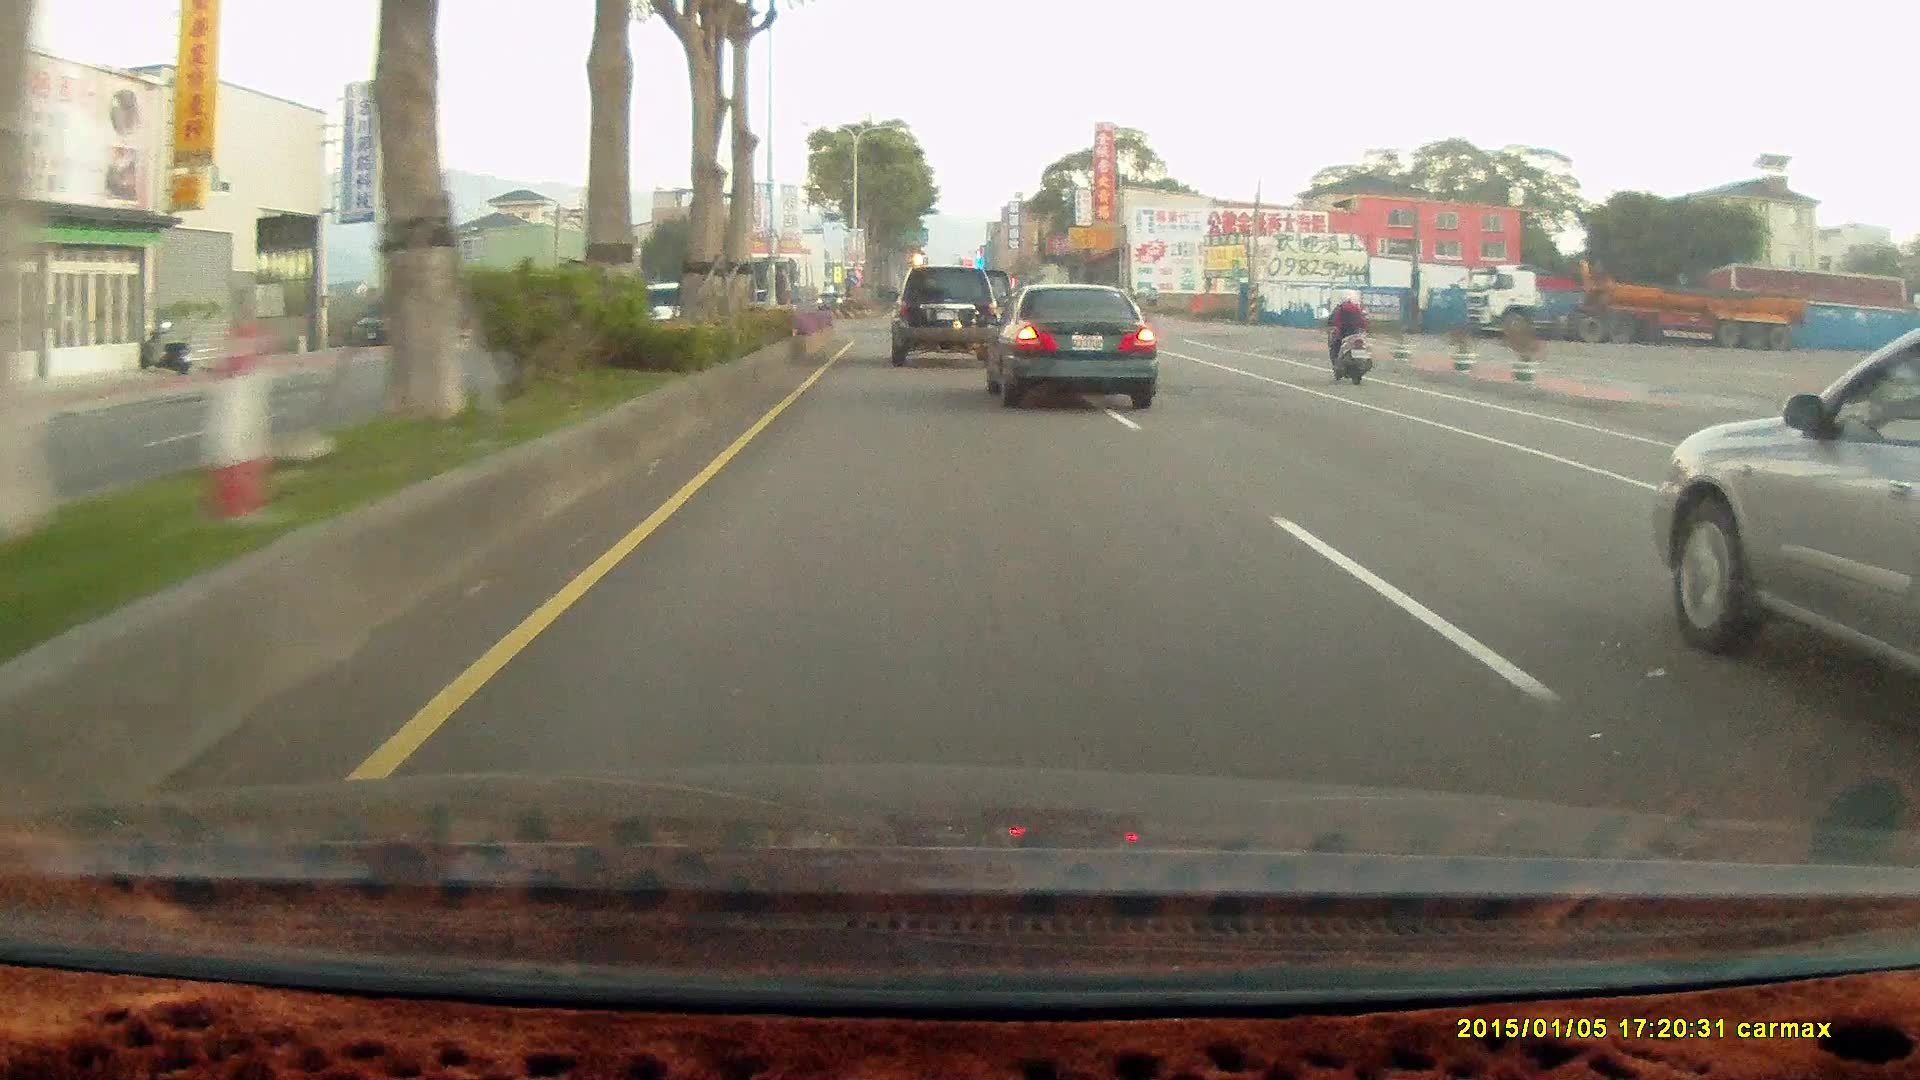rider: (1315, 281, 1383, 390), (1317, 288, 1372, 385)
vehicle: (1652, 316, 1920, 699), (1458, 266, 1802, 351), (981, 280, 1159, 410), (982, 286, 1154, 408), (884, 268, 997, 369), (890, 263, 999, 366), (353, 300, 428, 351)
